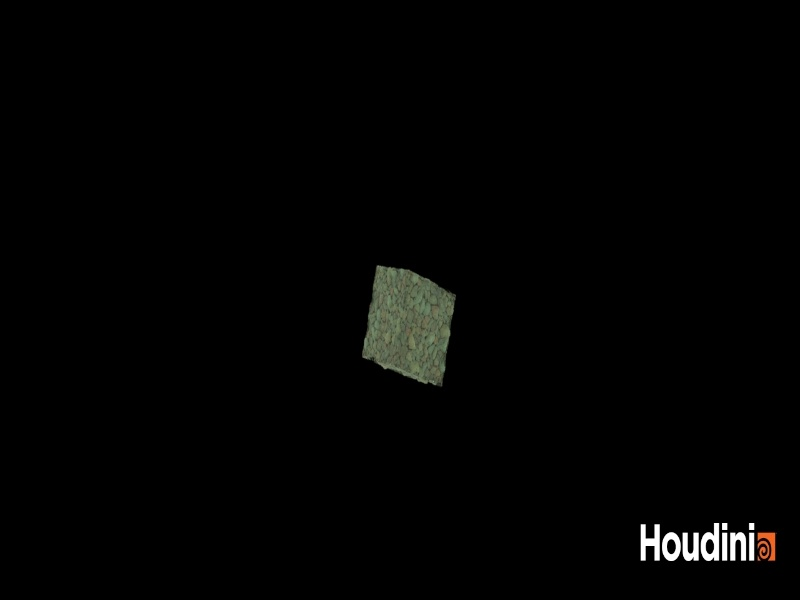waste: (353, 249, 475, 404)
